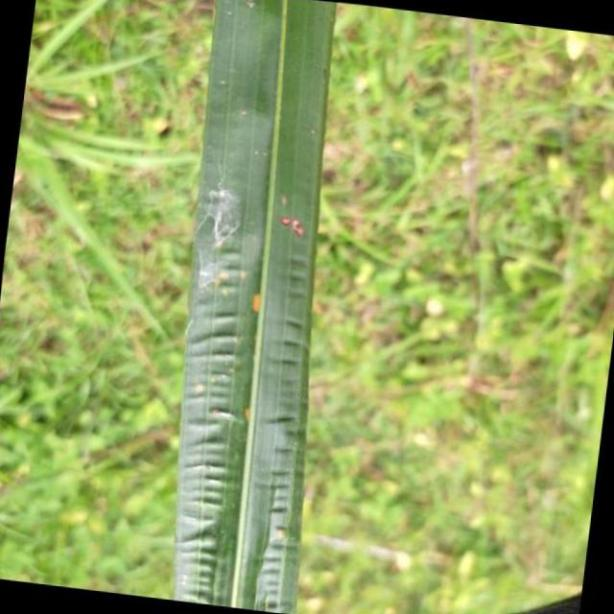Boron: (173, 0, 334, 614)
